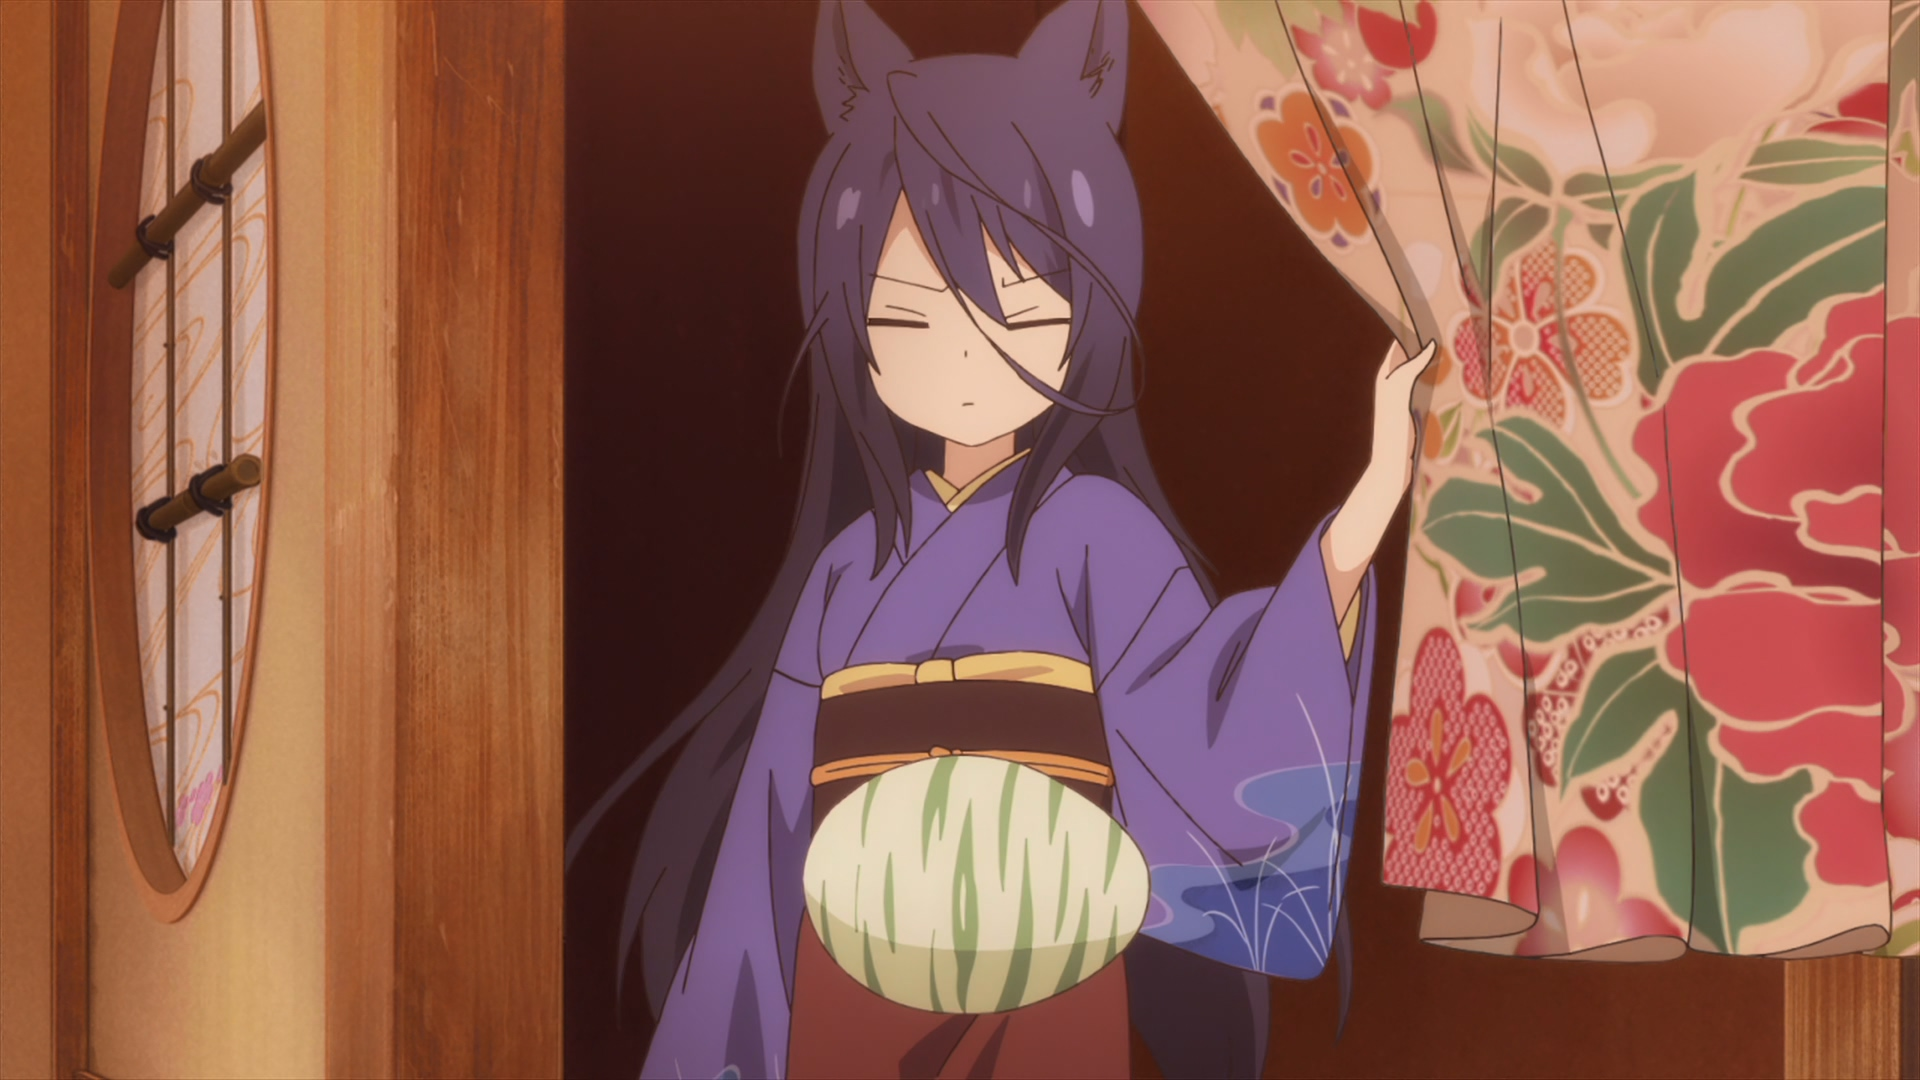皋: (566, 1, 1437, 1080)
